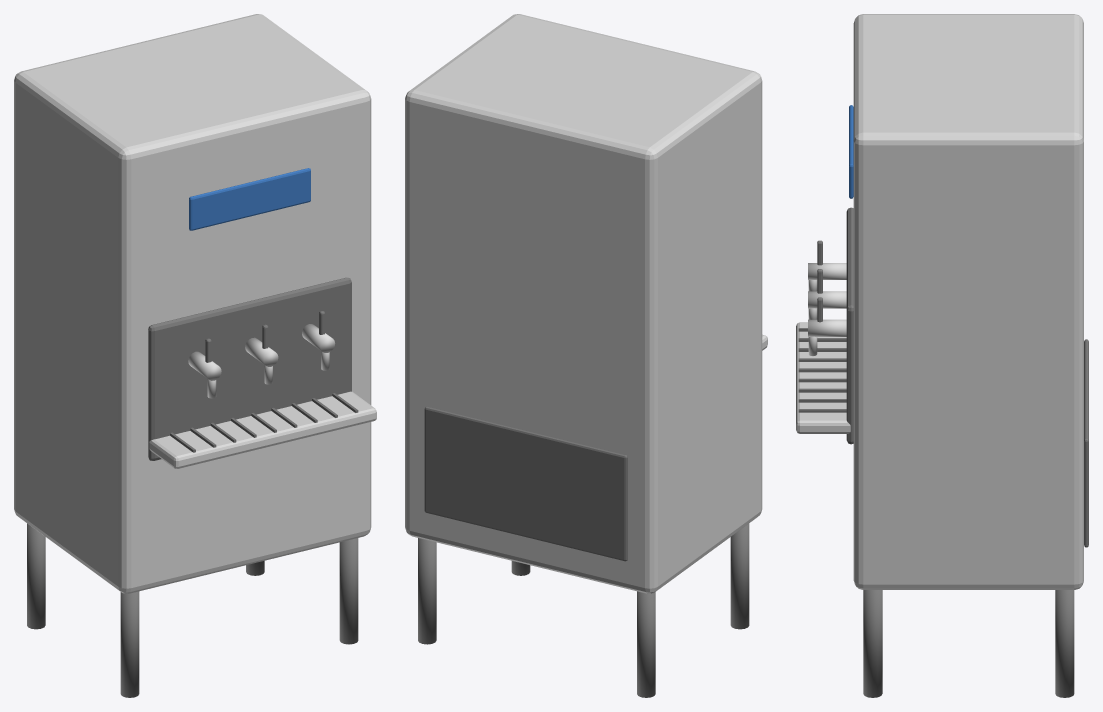
Rendered from water_cooler.glb.
3 renders of one model, left to right at view 1: azimuth 30°, elevation 25°; view 2: azimuth 150°, elevation 25°; view 3: azimuth 270°, elevation 25°, orthographic. The views are drawn at different scales.
Parts seen in each view (by area): view 1: water_cooler; view 2: water_cooler; view 3: water_cooler.
Part boxes in pixels (x1,y1,x2,y2): water_cooler: (14,14,376,697); water_cooler: (405,14,767,697); water_cooler: (796,14,1088,697).
Bounding box in the file's own units: 0.62 × 1.3 × 0.61.
